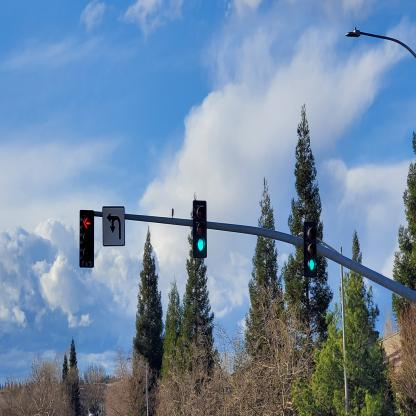green: (304, 221, 317, 278), (194, 202, 206, 258)
left-red: (80, 210, 94, 268)
